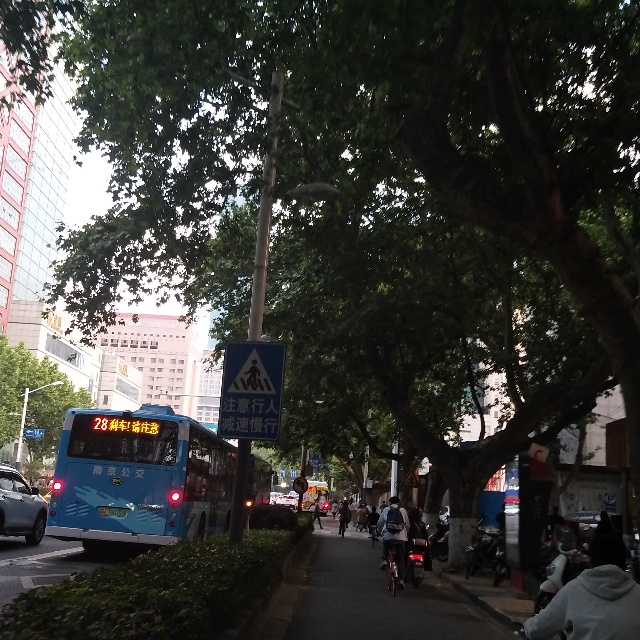crosswalk: (217, 339, 277, 398)
